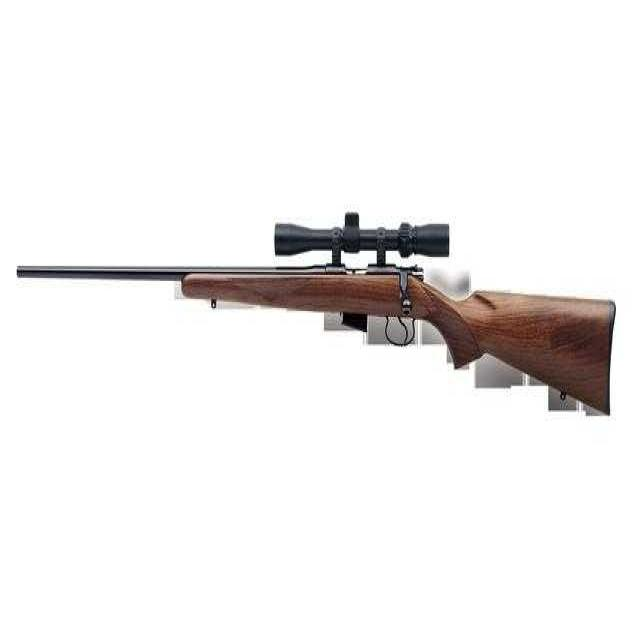heavyweapon: (29, 157, 617, 438)
